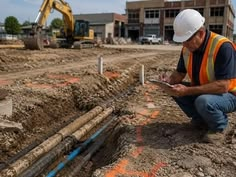excavator: (26, 1, 101, 57)
hardhat: (170, 7, 206, 44)
person: (141, 4, 236, 151)
safety_vest: (180, 43, 235, 103)
